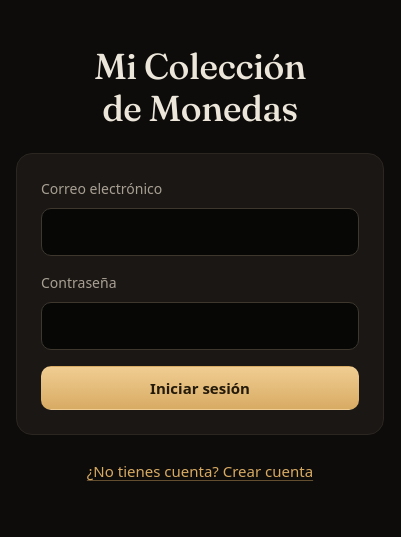
Test: muestra un mensaje claro cuando las credenciales son incorrectas
Type "coleccionista@ejemplo.cl" into the field labelled "Correo electrónico" at (200, 232), box [41, 208, 359, 256]
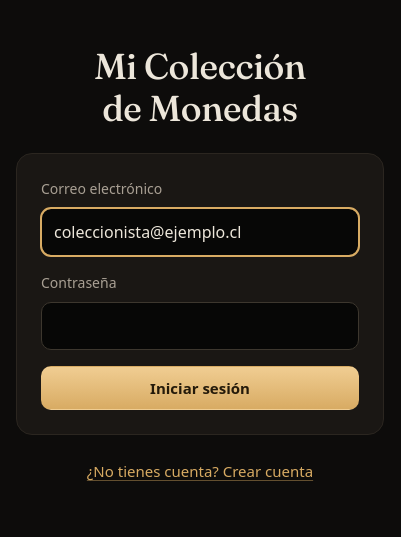
Type "incorrecta" into the password field labelled "Contraseña" at (200, 326), box [41, 302, 359, 350]
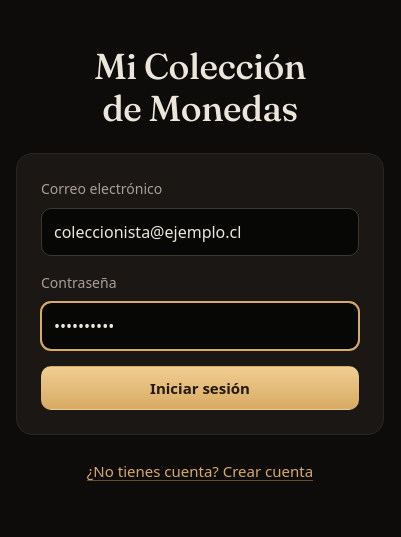
Click the button "Iniciar sesión" at (200, 388), box [41, 366, 359, 410]
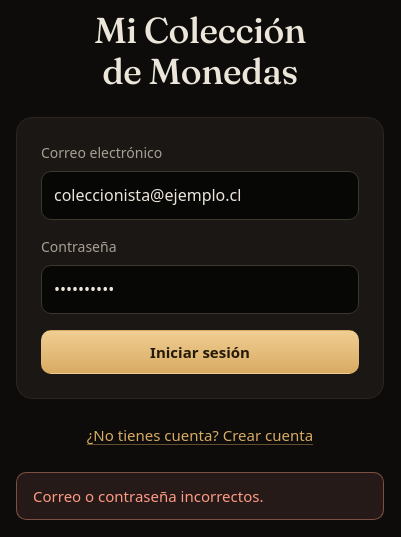
Expected: the message shows "Correo o contraseña incorrectos", [33, 486, 263, 506]
